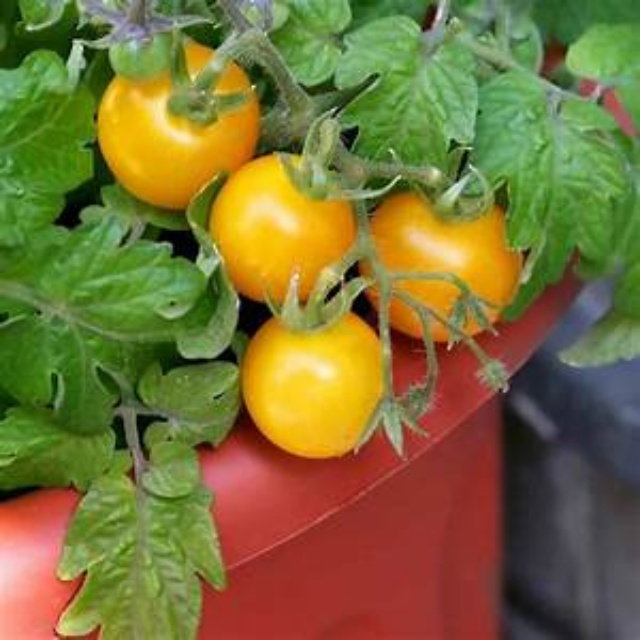tomato: (357, 182, 540, 342), (102, 38, 263, 210), (245, 294, 393, 468), (211, 156, 358, 306)
